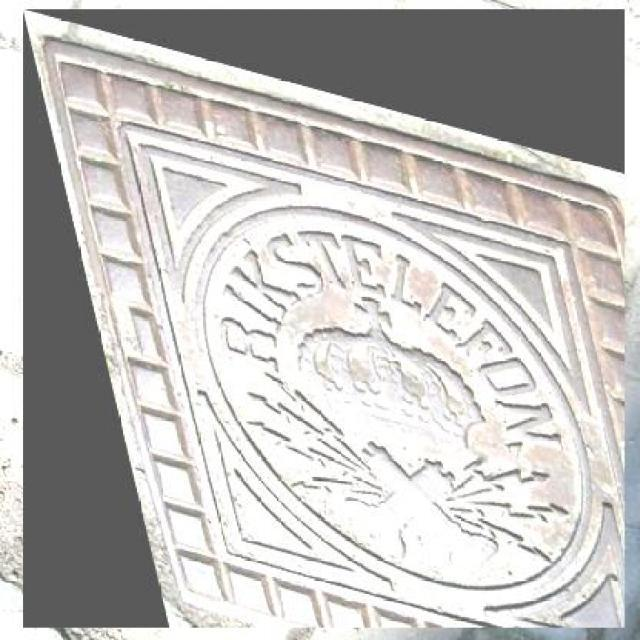Manhole: (23, 9, 625, 628)
